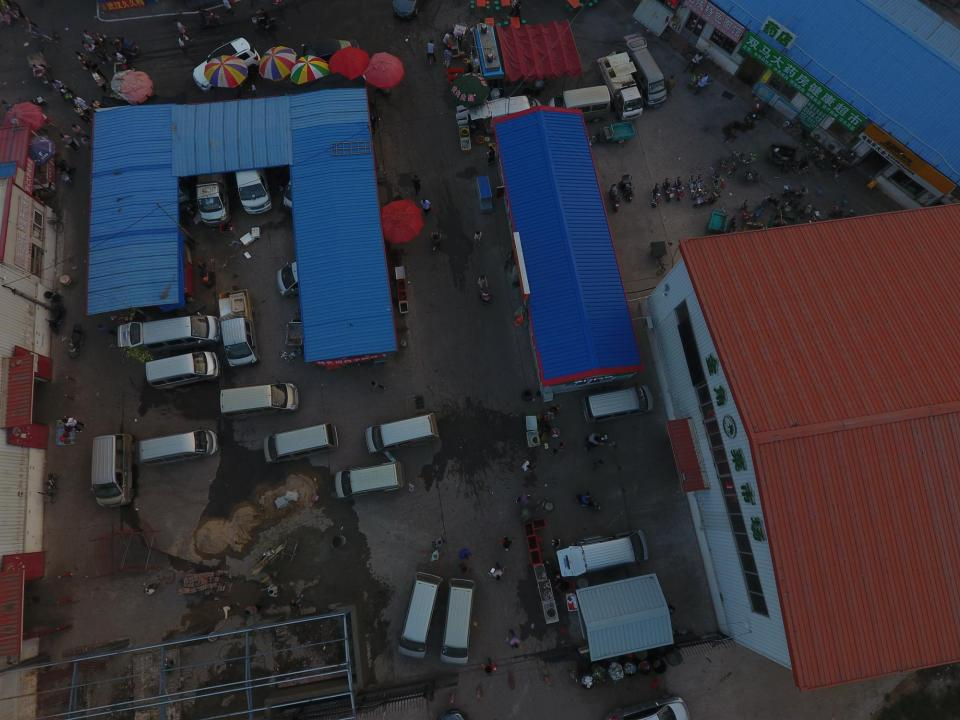car: (193, 36, 260, 93), (602, 696, 693, 720)
van: (552, 531, 649, 577), (118, 313, 221, 352), (399, 571, 440, 660), (89, 431, 132, 507), (217, 291, 260, 367), (468, 93, 549, 133), (598, 51, 644, 120), (265, 424, 337, 466), (627, 34, 669, 106), (440, 578, 475, 664), (142, 351, 219, 390), (364, 413, 439, 453), (220, 384, 297, 420), (333, 459, 403, 498), (141, 431, 216, 465), (546, 84, 612, 122), (584, 386, 655, 420), (195, 162, 228, 222), (277, 262, 323, 298), (236, 170, 271, 214)
